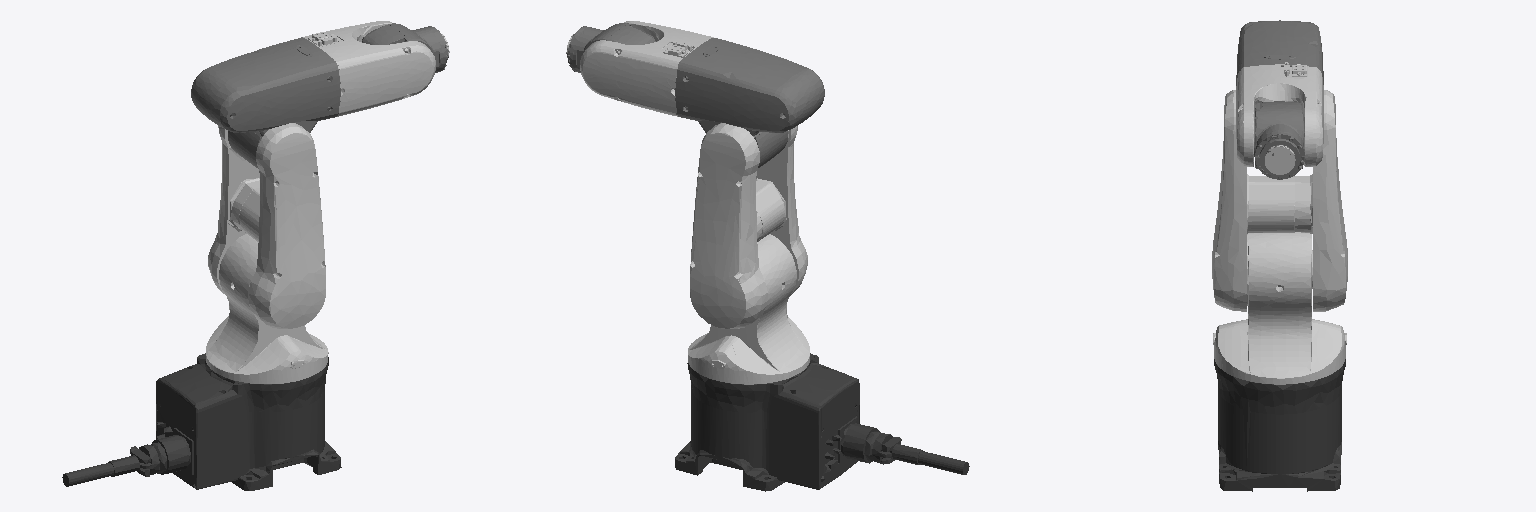
URDF robot description (vp6242):
<?xml version="1.0"?>
<robot name="vp6242">
	<!--
		J1   J2   J3   J4   J5   J6
		160  120  160  160  120  360
	   -160 -120   19 -160 -120 -360
	-->
  <link name="base_link">
    <visual>
	  <geometry>
	    <mesh filename="package://vp6242_description/robot/base.stl" scale="0.001 0.001 0.001"/>
	    <!--cylinder length="0.125" radius="0.08"/-->
	  </geometry>
	  <origin rpy="-1.570796 3.141592 0" xyz="0 0 0"/>
	  <material name="base_link">
        <color rgba="0.3 0.3 0.3 1"/>
      </material>
    </visual>
  </link>
	
  <link name="link0">
    <visual>
      <geometry>
 				<mesh filename="package://vp6242_description/robot/l0.stl" scale="0.001 0.001 0.001"/>
        <!--cylinder length="0.125" radius="0.03"/-->
      </geometry>
      <origin rpy="-1.570796 3.141592 0" xyz="0 0 0"/>
      <material name="link">
        <color rgba="0.8 0.8 0.8 1"/>
      </material>
    </visual>
  </link>

  <joint name="J1" type="revolute">
    <axis xyz="0 0 1"/>
    <limit effort="1000.0" lower="-2.792526" upper="2.792526" velocity="0.1"/>
    <origin rpy="0 0 0" xyz="0.0 0.0 0.155"/>
    <parent link="base_link"/>
    <child link="link0"/>
  </joint>

  <link name="link1">
    <visual>
      <geometry>
				<mesh filename="package://vp6242_description/robot/l1.stl" scale="0.001 0.001 0.001"/>
        <!--cylinder length="0.210" radius="0.03"/-->
      </geometry>
      <origin rpy="-1.570796 3.141592 0" xyz="0 0 0"/>
      <material name="link"/>
    </visual>
  </link>

  <joint name="J2" type="revolute">
    <axis xyz="0 1 0"/>
    <limit effort="1000.0" lower="-2.094394" upper="2.094394" velocity="0.1"/>
    <origin rpy="0 0 0" xyz="0.0 0.0 0.125"/>
    <parent link="link0"/>
    <child link="link1"/>
  </joint>
  
  <link name="link2">
    <visual>
      <geometry>
				<mesh filename="package://vp6242_description/robot/l2.stl" scale="0.001 0.001 0.001"/>
        <!--cylinder length="0.075" radius="0.03"/-->
      </geometry>
	  <origin rpy="-1.570796 3.141592 0" xyz="0 0 0"/>
	  <material name="joint">
      <color rgba="0.5 0.5 0.5 1"/>
      </material>
    </visual>
  </link>
 	
 <joint name="J3" type="revolute">
    <axis xyz="0 1 0"/>
    <limit effort="1000.0" lower="-1.239183" upper="1.221730" velocity="0.1"/>
    <origin rpy="0 0 0" xyz="0.0 0.0 0.210"/>
    <parent link="link1"/>
    <child link="link2"/>
  </joint>


  <link name="link3">
    <visual>
    <geometry>
			<mesh filename="package://vp6242_description/robot/l3.stl" scale="0.001 0.001 0.001"/>
      <!--cylinder length="0.311" radius="0.03"/-->
    </geometry>
		<origin rpy="-1.570796 3.141592 0" xyz="0.0 0.0 0.0"/>
		<material name="link"/>
    </visual>
  </link>
  
  <joint name="J4" type="revolute">
    <axis xyz="1 0 0"/>
    <limit effort="1000.0" lower="-2.792526" upper="2.792526" velocity="0.1"/>
    <origin rpy="0 0 0" xyz="0.079729 0.0 0.075"/>
    <parent link="link2"/>
    <child link="link3"/>
  </joint>

  <link name="link4">
    <visual>
      <geometry>
			<mesh filename="package://vp6242_description/robot/l4.stl" scale="0.001 0.001 0.001"/>
      <!--cylinder length="0.060" radius="0.0325"/-->
      </geometry>
	  <origin rpy="-1.570796 3.141592 0" xyz="0.0 0.0 0.0"/>
	  <material name="joint"/>
    </visual>
  </link>
 	
  <joint name="J5" type="revolute">
    <axis xyz="0 1 0"/>
    <limit effort="1000.0" lower="-2.094394" upper="2.094394" velocity="0.1"/>
    <origin rpy="0 0 0" xyz="0.130271 0.0 0.0"/>
    <parent link="link3"/>
    <child link="link4"/>
  </joint>

   <link name="link5">
    <visual>
      <geometry>
      <cylinder length="0.010" radius="0.02"/>
      </geometry>
	  <origin rpy="0 1.570796 0" xyz="-0.005 0.0 0.0"/>
	  <material name="link"/>
    </visual>
  </link>
 	
  <joint name="J6" type="revolute">
    <axis xyz="1 0 0"/>
    <limit effort="1000.0" lower="-6.283185" upper="6.283185" velocity="0.1"/>
    <origin rpy="0 0 0" xyz="0.07 0.0 0.0"/>
    <parent link="link4"/>
    <child link="link5"/>
  </joint>


</robot>

--- Render facts (derived) ---
Views: 3 orthographic renders of the robot side by side, from view 1: azimuth 30°, elevation 25°; view 2: azimuth 150°, elevation 25°; view 3: azimuth 270°, elevation 25°.
Model vp6242 with 7 links and 6 joints (6 revolute), rooted at base_link, posed all joints at 0.
Visible links, largest first — view 1: base_link, link1, link2, link0, link3, link4; view 2: base_link, link1, link2, link0, link3, link4; view 3: link1, base_link, link0, link3, link2, link4, link5.
Boxes of the visible links, x1,y1,x2,y2 form: base_link: (62, 353, 341, 490); link1: (208, 123, 325, 328); link2: (191, 37, 340, 168); link0: (206, 234, 328, 383); link3: (303, 21, 435, 116); link4: (362, 23, 448, 72); base_link: (675, 353, 969, 491); link1: (690, 123, 807, 328); link2: (675, 38, 824, 167); link0: (688, 234, 809, 384); link3: (580, 21, 713, 116); link4: (566, 23, 655, 72); link1: (1212, 90, 1347, 311); base_link: (1214, 359, 1345, 491); link0: (1213, 232, 1346, 384); link3: (1236, 62, 1323, 166); link2: (1236, 20, 1323, 85); link4: (1254, 101, 1304, 179); link5: (1265, 145, 1295, 174).
Size in the robot's own frame: 0.6141 by 0.1761 by 0.6154 metres.
6 mesh visuals loaded from 6 distinct referenced files (6 binary STL).
